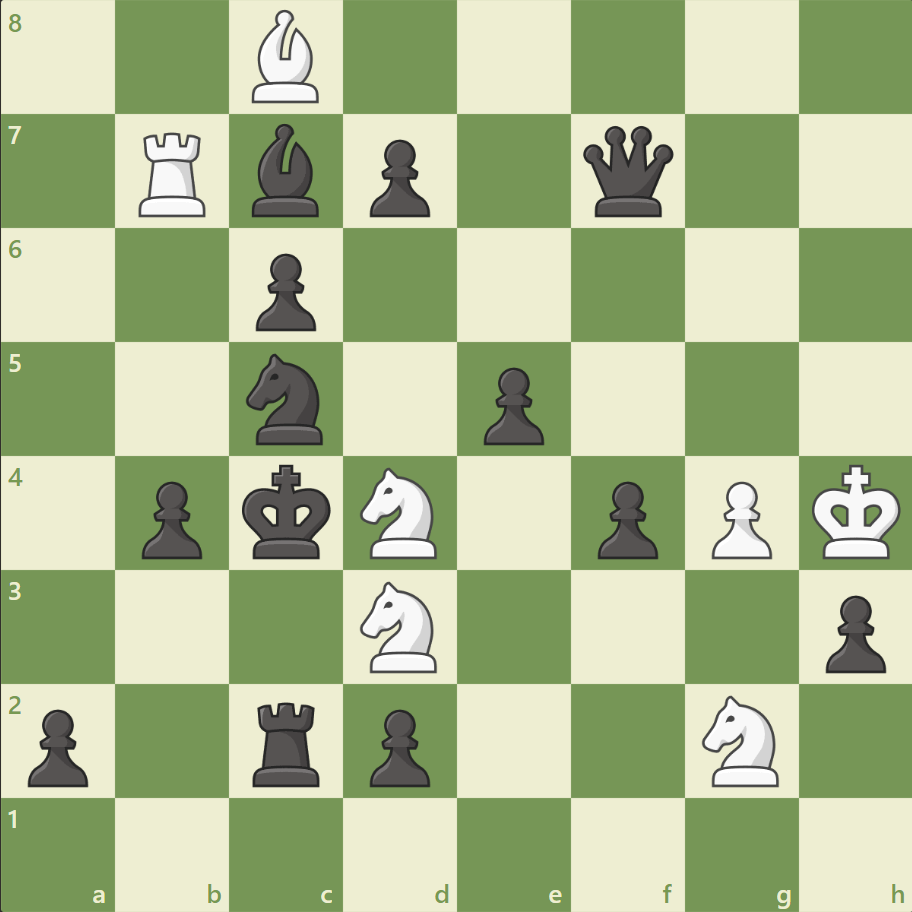B: (244, 6, 328, 109)
K: (806, 458, 906, 566)
N: (351, 461, 449, 564), (351, 575, 449, 677), (692, 688, 789, 791)
P: (701, 473, 776, 564)
R: (133, 125, 215, 222)
b: (244, 120, 328, 222)
k: (238, 458, 338, 566)
n: (238, 348, 335, 450)
p: (247, 246, 322, 337), (474, 359, 549, 450), (133, 473, 208, 564), (20, 700, 95, 791), (361, 132, 435, 223), (588, 473, 662, 564), (815, 586, 889, 677), (361, 700, 435, 791)
q: (578, 122, 677, 222)
r: (246, 693, 329, 790)
